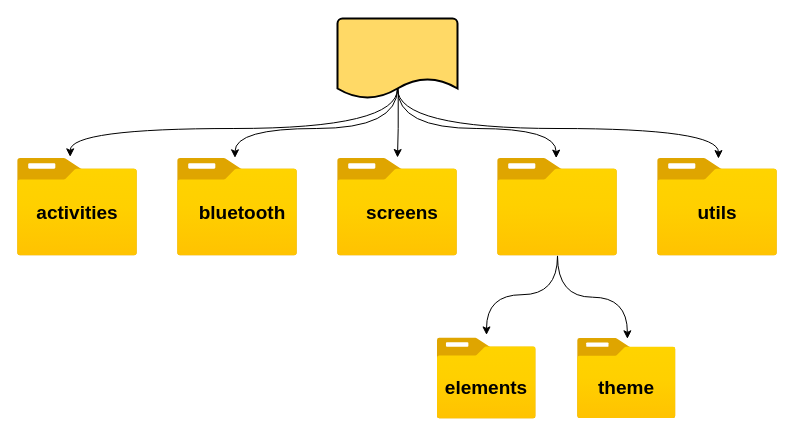
The diagram is 794 pixels wide and 440 high, and some of its shapes have lost their labels. Here are the shapes that lost their labels. From the top down, the centre of each, then its label:
At point 397,58: "isel.seaspot".
At point 557,206: "ui".
